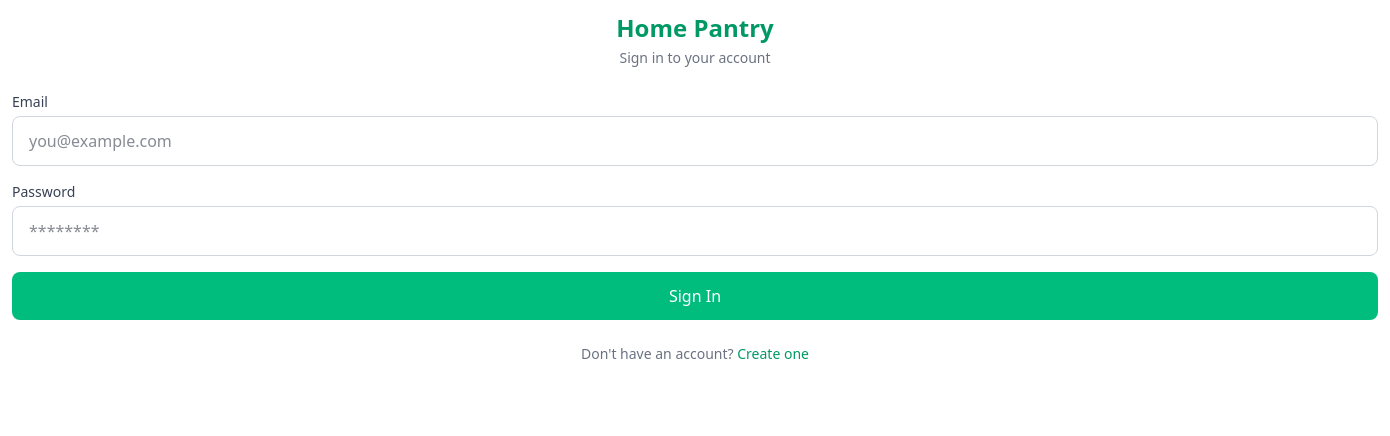
Scenario: LoginPage › displays error message on login failure
Type "test@example.com" into the field labelled "Email" at (695, 141), box [12, 116, 1378, 166]
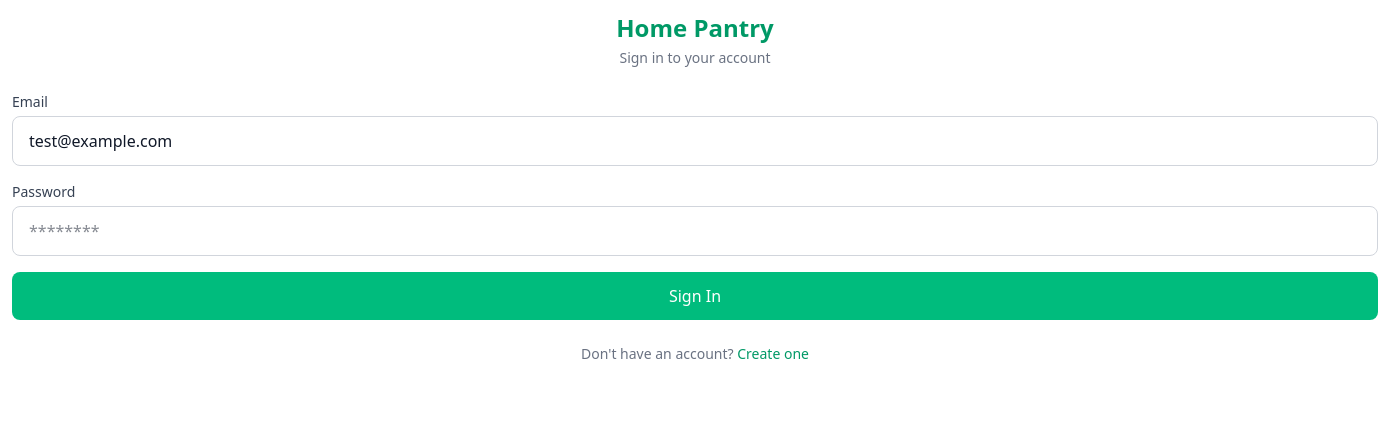
Type "wrongpassword" into the password field labelled "Password" at (695, 231), box [12, 206, 1378, 256]
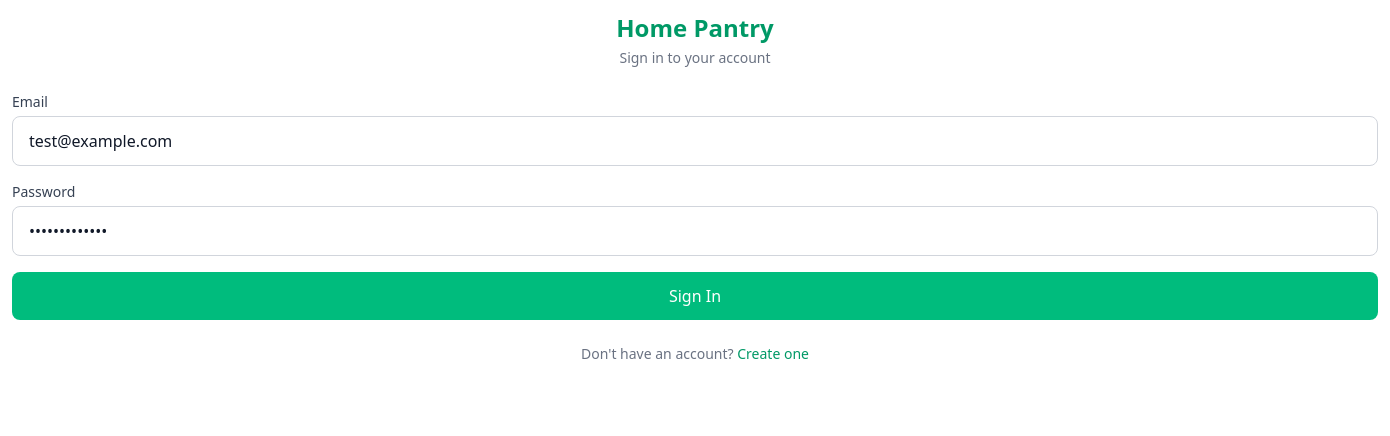
Click the button "Sign In" at (695, 296), box [12, 272, 1378, 320]
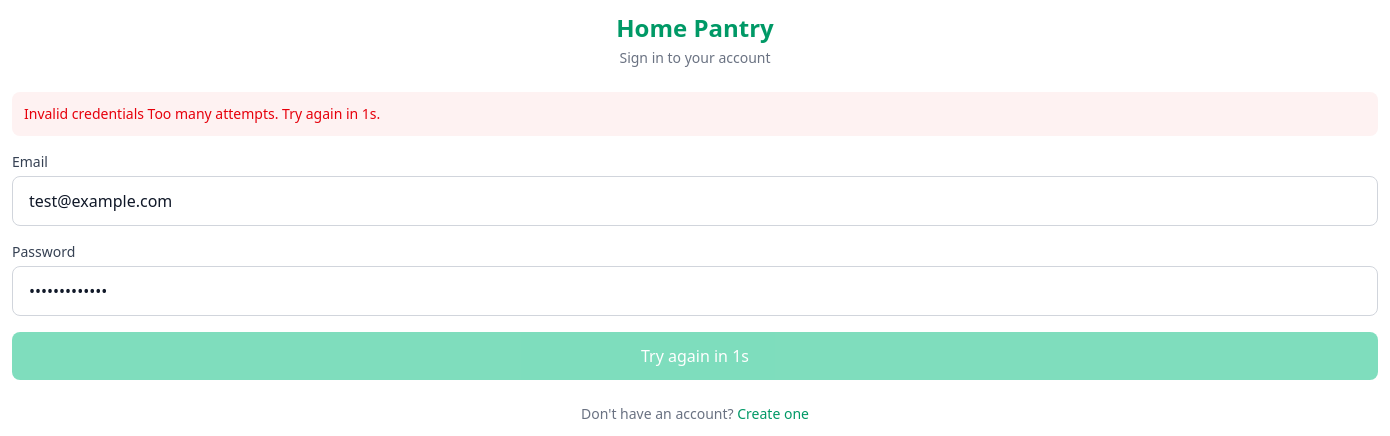
Now the text "Invalid credentials Too many attempts. Try again in 1s." is shown, box [12, 92, 1378, 136]
